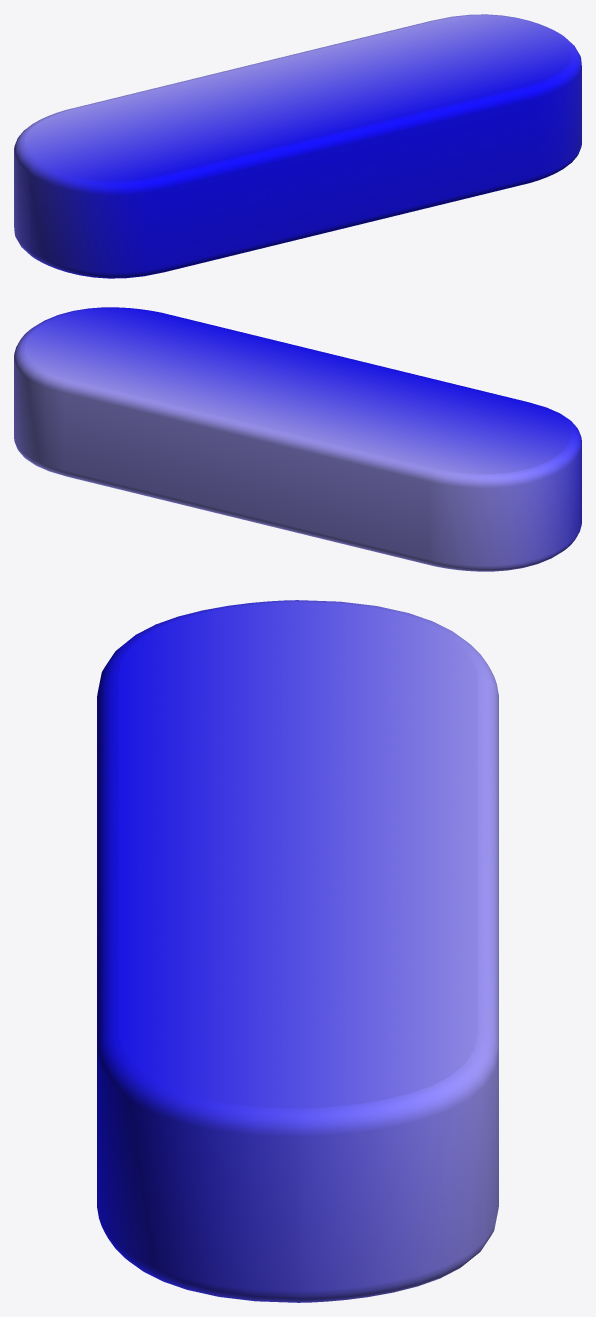
File: Paddle-26.dae
The picture shows the model from 3 angles, top to bottom: view 1: azimuth 30°, elevation 25°; view 2: azimuth 150°, elevation 25°; view 3: azimuth 270°, elevation 25°; orthographic projection. The views are drawn at different scales.
Parts seen in each view (by area): view 1: Paddle; view 2: Paddle; view 3: Paddle.
Part boxes in pixels (bbox=[...]): Paddle: bbox=[14, 14, 581, 278]; Paddle: bbox=[14, 307, 581, 571]; Paddle: bbox=[97, 600, 498, 1302].
Bounding box in the file's own units: 0.2922 × 0.05 × 0.0947.
1 material, 1 textured.
